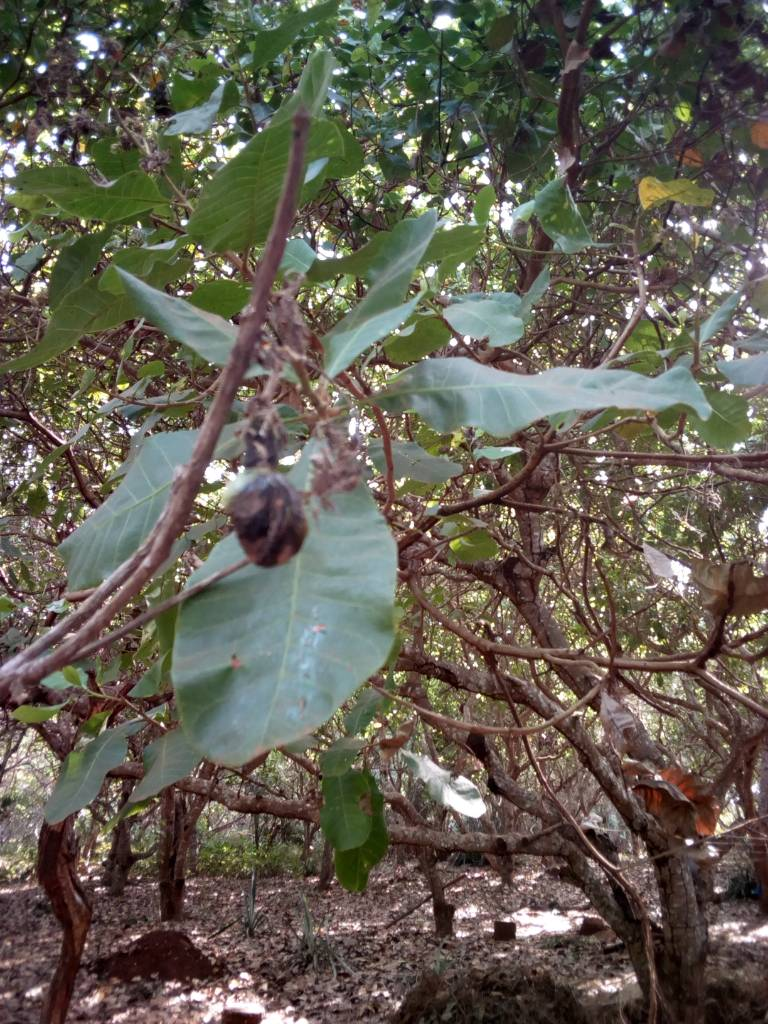Die-black: (220, 446, 328, 599)
